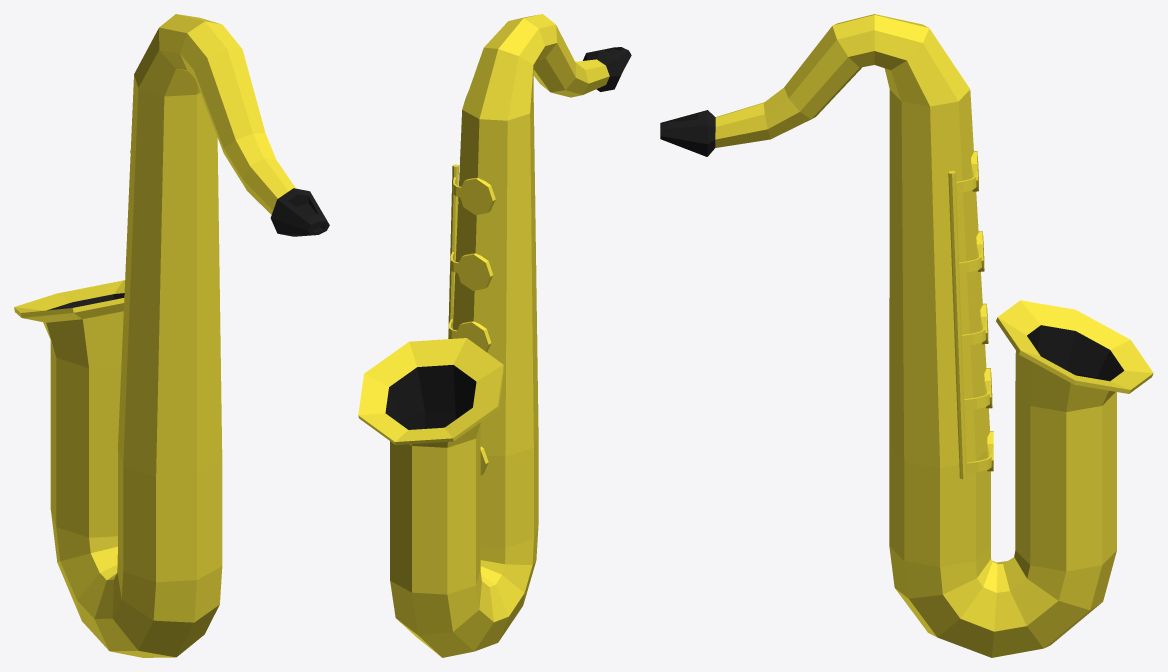
File: Saxophone.glb
3 renders of one model, left to right at view 1: azimuth 30°, elevation 25°; view 2: azimuth 150°, elevation 25°; view 3: azimuth 270°, elevation 25°, orthographic. The views are drawn at different scales.
Parts seen in each view (by area): view 1: Saxophone_Circle.003; view 2: Saxophone_Circle.003; view 3: Saxophone_Circle.003.
Boxes of the visible parts, left/top/right/bottom form: Saxophone_Circle.003: left=14, top=14, right=329, bottom=657; Saxophone_Circle.003: left=358, top=14, right=631, bottom=657; Saxophone_Circle.003: left=660, top=14, right=1153, bottom=657.
Bounding box in the file's own units: 3.8 × 16 × 11.16.
